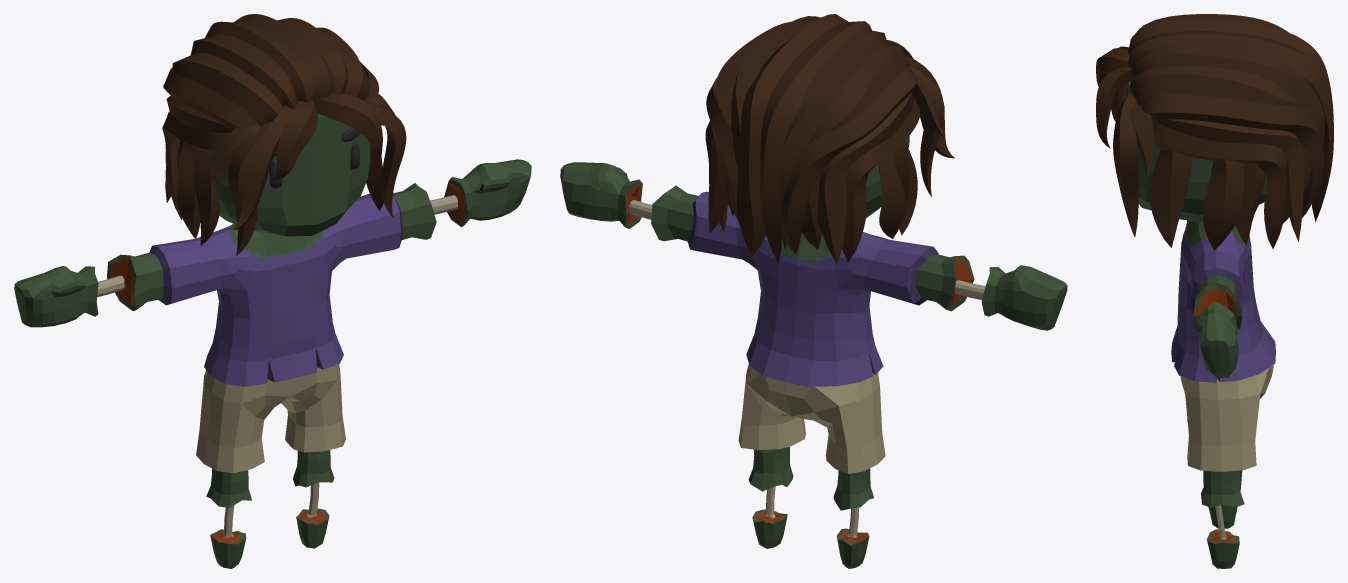
File: Zombie_Female.fbx
3 views of the same model, side by side, from view 1: azimuth 30°, elevation 25°; view 2: azimuth 150°, elevation 25°; view 3: azimuth 270°, elevation 25° (orthographic).
Parts seen in each view (by area): view 1: Body; view 2: Body; view 3: Body.
Part boxes in pixels (bbox=[...]): Body: bbox=[14, 14, 531, 568]; Body: bbox=[560, 14, 1067, 568]; Body: bbox=[1096, 14, 1333, 568].
Bounding box in the file's own units: 324 × 320 × 133.
1 material, 1 textured.
